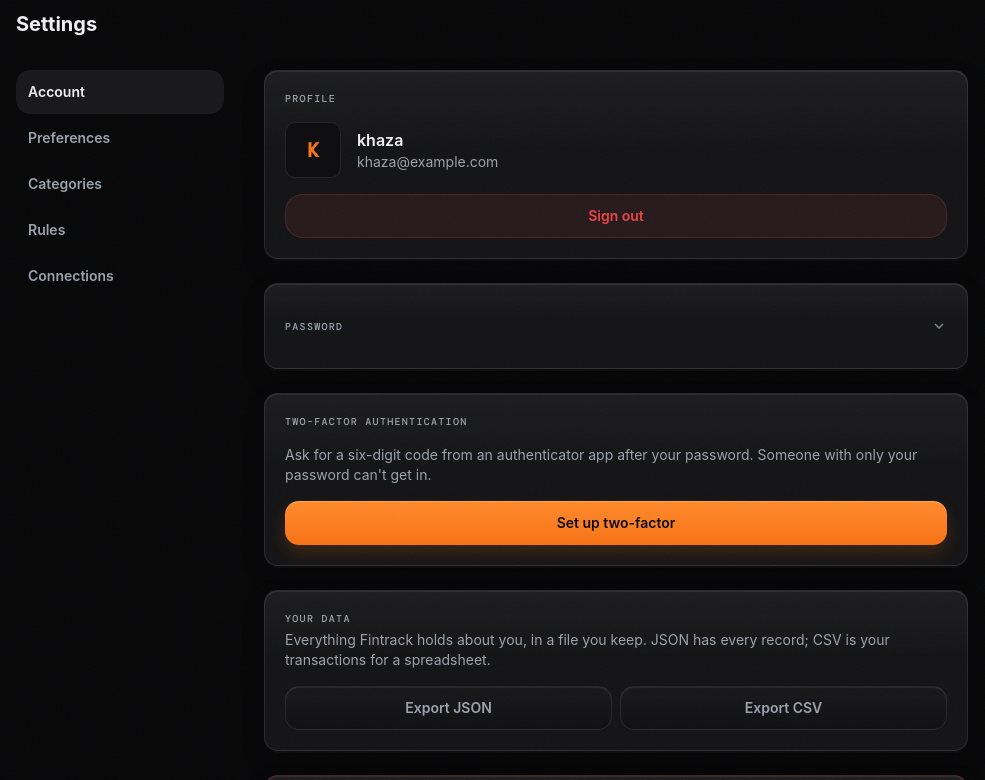
Scenario: Settings push toggle › is OFF when permission was granted but no subscription exists
Click the button "Preferences" at (120, 138), box [16,116,224,160]
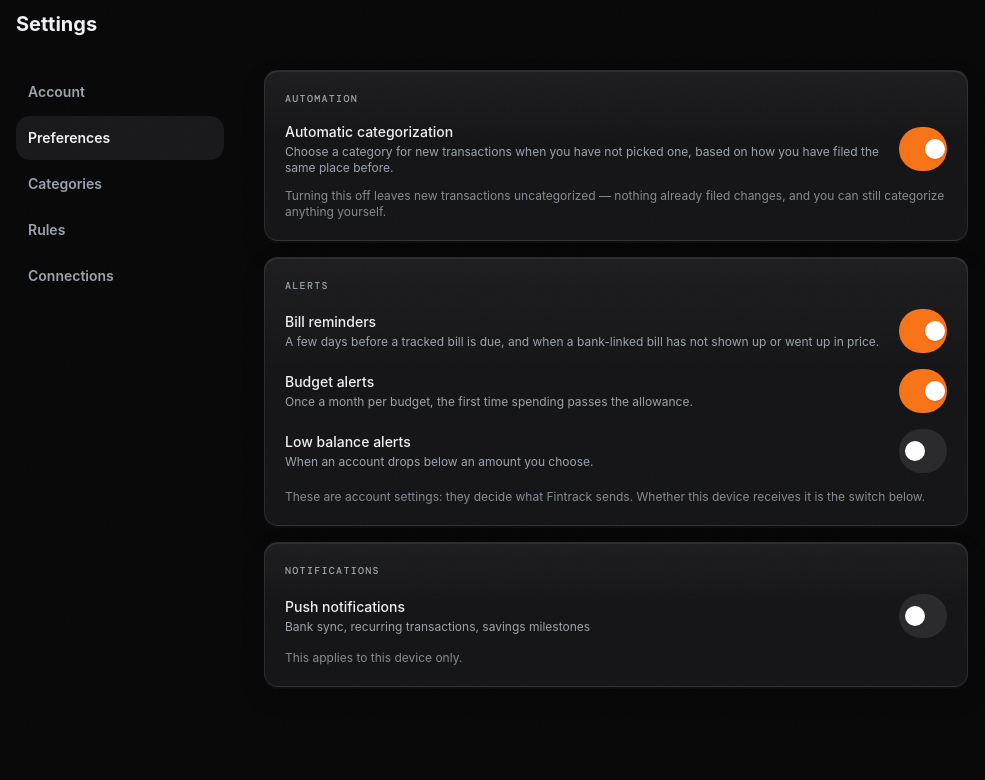
Result: the switch named "Push notifications" is enabled at [899,594,947,638]
